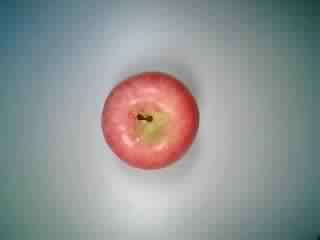apple: (97, 69, 202, 171)
